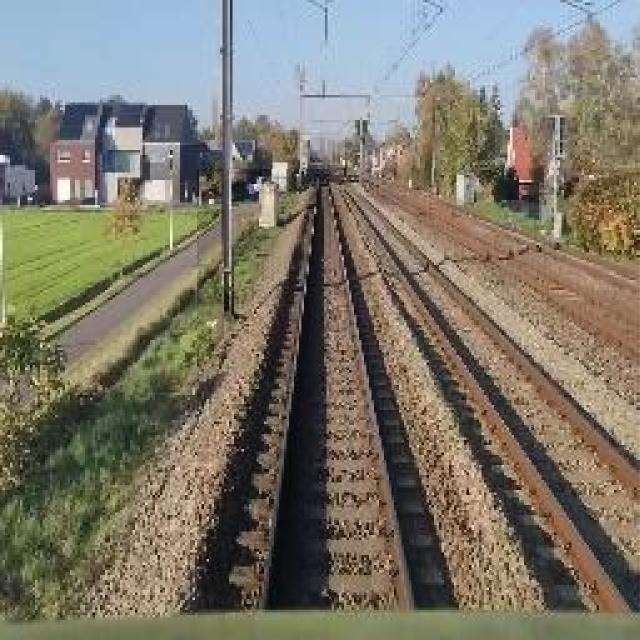rail: (333, 170, 640, 614), (199, 171, 457, 610)
